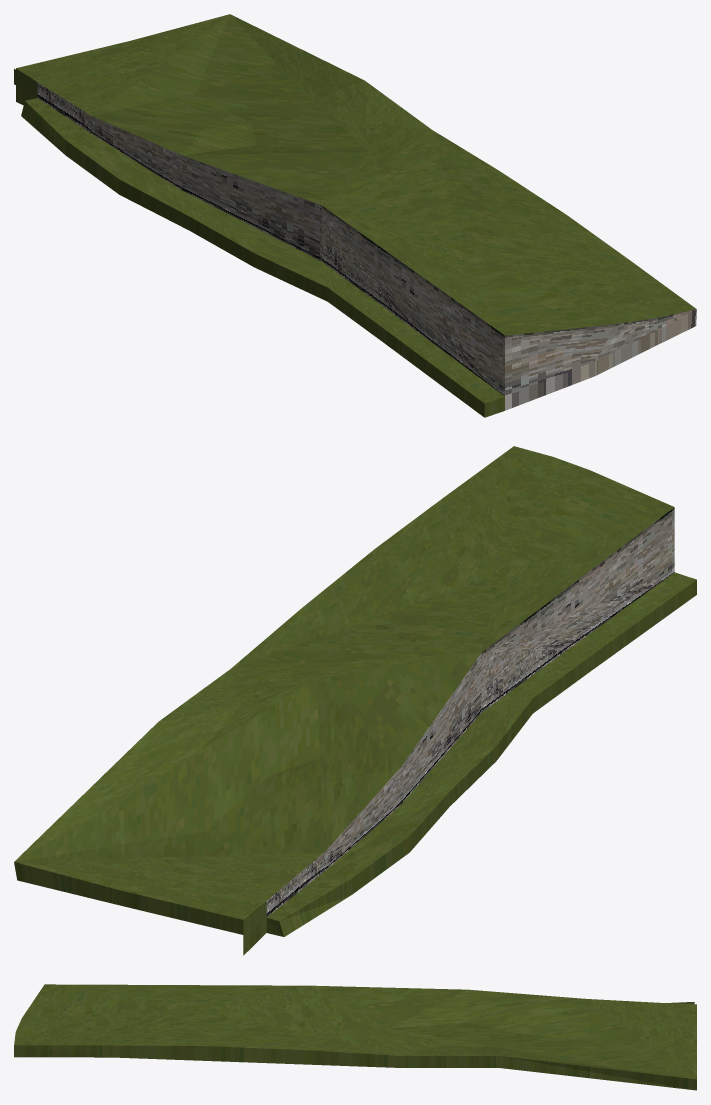
Rendered from loddbit06_sfs.obj.
3 renders of one model, top to bottom at view 1: azimuth 30°, elevation 25°; view 2: azimuth 150°, elevation 25°; view 3: azimuth 270°, elevation 25°, orthographic. The views are drawn at different scales.
Visible parts, largest first — view 1: LODdbit06_SFS; view 2: LODdbit06_SFS; view 3: LODdbit06_SFS.
Part boxes in pixels (x1=…): LODdbit06_SFS: x1=14, y1=14, x2=696, y2=417; LODdbit06_SFS: x1=14, y1=446, x2=696, y2=955; LODdbit06_SFS: x1=14, y1=984, x2=696, y2=1090.
Bounding box in the file's own units: 41.18 × 13.44 × 139.
Materials: 2 (2 with a texture image).
